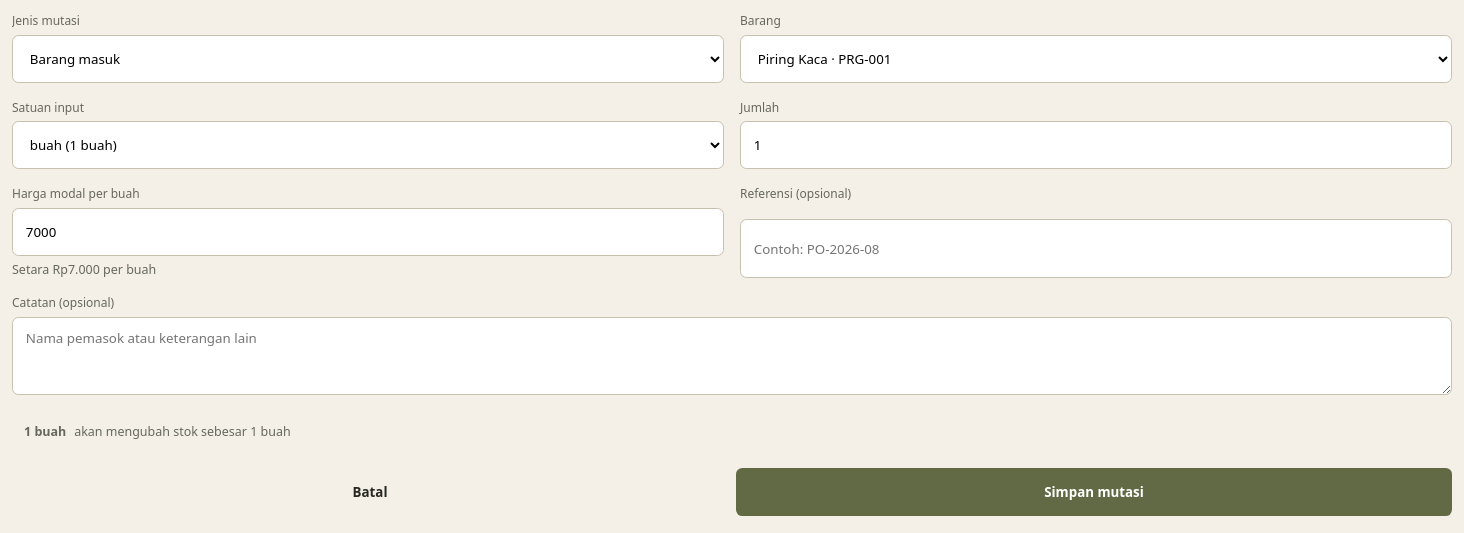
Test: MovementForm › suggests a unit cost that follows the selected conversion
Check: the number field labelled "Harga modal per buah Setara Rp7.000 per buah" holds "7000", box [12,208,724,256]
Select "lusin (12 buah)" in the dropdown labelled "Satuan input" at point(368, 145), box [12,121,724,169]
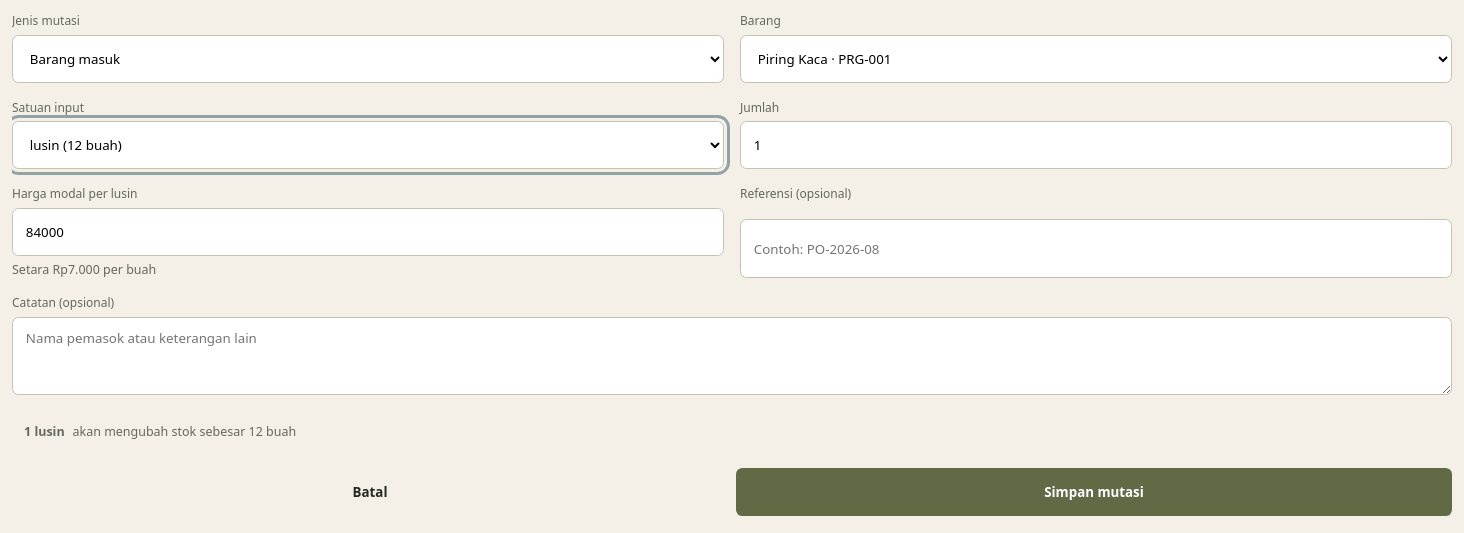
Check: the number field labelled "Harga modal per lusin Setara Rp7.000 per buah" holds "84000", box [12,208,724,256]
